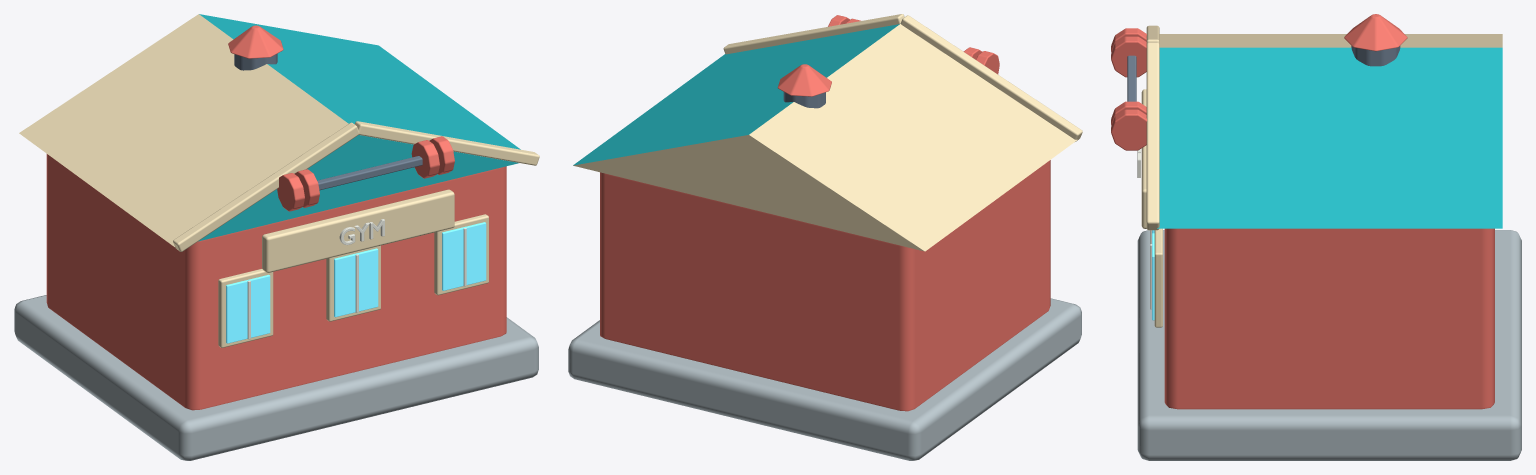
File: TownGym.fbx
The picture shows the model from 3 angles, left to right: view 1: azimuth 30°, elevation 25°; view 2: azimuth 150°, elevation 25°; view 3: azimuth 270°, elevation 25°; orthographic projection. The views are drawn at different scales.
Parts seen in each view (by area): view 1: Bold pitched roof.002, Main painted walls.002, Raised stone foundation.002, Sign board.002, Front roof fascia left.002, Front window blue glass.007, Front window blue glass.006, Front window blue glass.005, Front roof fascia right.002, Front window cream frame.005, Roof vent cap.002, Front window cream frame.007 (+7 smaller); view 2: Main painted walls.002, Bold pitched roof.002, Raised stone foundation.002, Front roof fascia left.002, Front roof fascia right.002, Roof vent cap.002; view 3: Bold pitched roof.002, Main painted walls.002, Raised stone foundation.002, Front roof fascia right.002, Roof vent cap.002, Dumbbell weight.003, Dumbbell weight.001, Front window cream frame.007, Roof vent.002, Sign board.002, Dumbbell bar.
Part boxes in pixels (x1=…): Bold pitched roof.002: x1=19, y1=14, x2=520, y2=246; Main painted walls.002: x1=46, y1=154, x2=506, y2=410; Raised stone foundation.002: x1=14, y1=295, x2=538, y2=460; Sign board.002: x1=262, y1=189, x2=454, y2=272; Front roof fascia left.002: x1=173, y1=122, x2=358, y2=251; Front window blue glass.007: x1=442, y1=222, x2=486, y2=290; Front window blue glass.006: x1=334, y1=248, x2=378, y2=317; Front window blue glass.005: x1=226, y1=274, x2=270, y2=343; Front roof fascia right.002: x1=354, y1=121, x2=539, y2=165; Front window cream frame.005: x1=218, y1=269, x2=273, y2=347; Roof vent cap.002: x1=228, y1=25, x2=283, y2=58; Front window cream frame.007: x1=434, y1=214, x2=488, y2=295; Main painted walls.002: x1=600, y1=160, x2=1050, y2=411; Bold pitched roof.002: x1=573, y1=24, x2=1077, y2=251; Raised stone foundation.002: x1=568, y1=298, x2=1081, y2=460; Front roof fascia left.002: x1=900, y1=15, x2=1082, y2=141; Front roof fascia right.002: x1=723, y1=14, x2=904, y2=54; Roof vent cap.002: x1=777, y1=64, x2=831, y2=96; Bold pitched roof.002: x1=1157, y1=34, x2=1502, y2=228; Main painted walls.002: x1=1164, y1=228, x2=1494, y2=409; Raised stone foundation.002: x1=1137, y1=230, x2=1521, y2=460; Front roof fascia right.002: x1=1146, y1=42, x2=1159, y2=230; Roof vent cap.002: x1=1344, y1=14, x2=1407, y2=51; Dumbbell weight.003: x1=1111, y1=109, x2=1147, y2=150; Dumbbell weight.001: x1=1111, y1=36, x2=1146, y2=77; Front window cream frame.007: x1=1154, y1=228, x2=1162, y2=327; Roof vent.002: x1=1351, y1=46, x2=1400, y2=66; Sign board.002: x1=1141, y1=89, x2=1146, y2=228; Dumbbell bar: x1=1127, y1=55, x2=1136, y2=101.
Size of the model in its own units: 1208 by 1012 by 1069.
